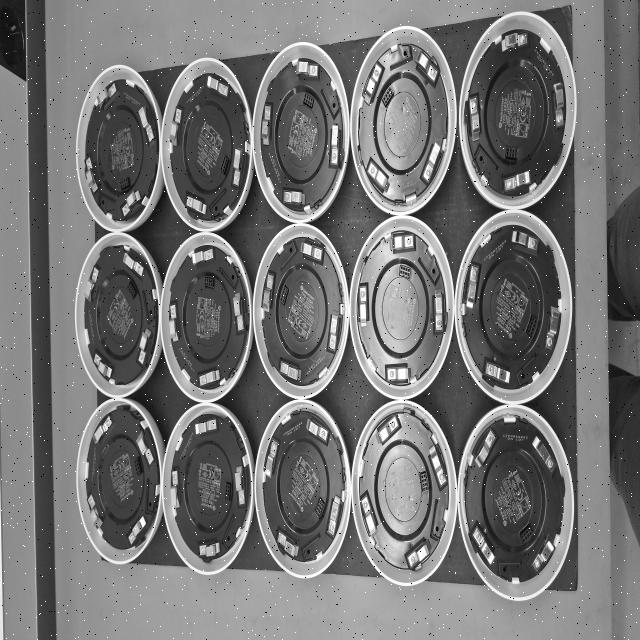yayli: (470, 519, 497, 574), (358, 491, 384, 544), (504, 227, 542, 262), (323, 299, 344, 360), (530, 426, 557, 472), (472, 429, 498, 476), (366, 153, 392, 200), (379, 356, 417, 388), (362, 62, 383, 116), (353, 278, 372, 336), (548, 74, 568, 129), (428, 440, 448, 494), (89, 410, 116, 450), (542, 297, 561, 353), (429, 283, 448, 339), (259, 268, 278, 324), (85, 486, 107, 534), (303, 416, 334, 450), (498, 166, 533, 196), (273, 528, 303, 563), (467, 92, 486, 147), (167, 100, 186, 155), (412, 49, 441, 85), (478, 358, 515, 386), (420, 137, 442, 184), (532, 531, 557, 572), (118, 188, 150, 220), (496, 28, 530, 58), (375, 412, 401, 451), (259, 99, 276, 158), (93, 78, 118, 118), (326, 114, 344, 169), (406, 536, 434, 571), (463, 264, 482, 315), (386, 227, 418, 257), (228, 140, 246, 193), (278, 353, 305, 388), (136, 100, 157, 145), (322, 493, 342, 540), (231, 289, 251, 335), (263, 435, 280, 488), (120, 248, 148, 280), (136, 424, 155, 471), (82, 262, 101, 309), (205, 71, 231, 105), (125, 512, 149, 548), (168, 464, 183, 520), (298, 240, 328, 268), (192, 412, 223, 438), (166, 300, 182, 349), (292, 54, 322, 80), (84, 154, 101, 199), (196, 533, 222, 562), (279, 185, 310, 209), (197, 364, 224, 391), (190, 246, 218, 272), (92, 352, 115, 381), (184, 192, 209, 218), (138, 324, 153, 366), (235, 460, 246, 508)
